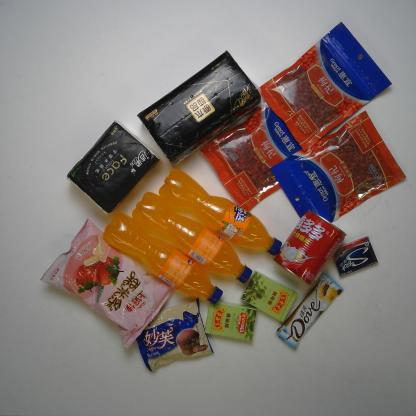Candy: (239, 270, 299, 323), (204, 299, 258, 342)
Canned Food: (272, 209, 348, 288)
Chocolate: (274, 271, 345, 350)
Dessert: (127, 296, 214, 375)
Dried Fruit: (252, 20, 394, 152), (198, 82, 332, 214), (268, 108, 408, 232)
Drink: (131, 190, 254, 285), (101, 212, 224, 306), (158, 166, 284, 257)
Gum: (328, 235, 379, 278)
Puffed Food: (38, 216, 182, 351)
Tissue: (135, 48, 264, 168), (64, 119, 160, 218)
